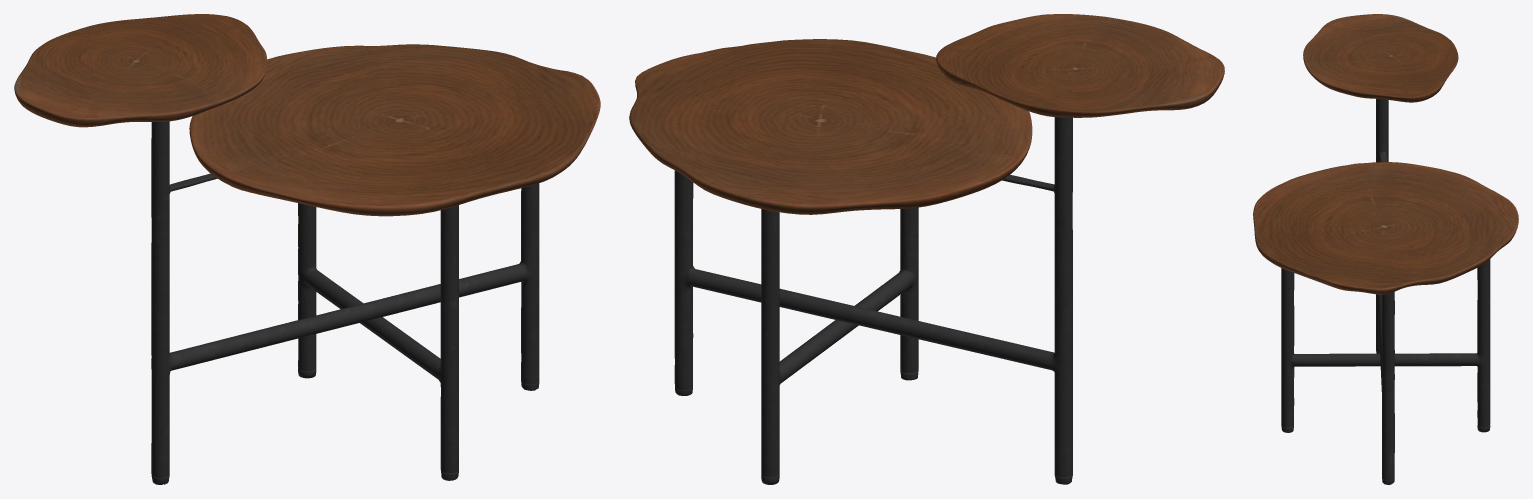
Rendered from abo-B07B7L147Y.glb.
3 views of the same model, side by side, from view 1: azimuth 30°, elevation 25°; view 2: azimuth 150°, elevation 25°; view 3: azimuth 270°, elevation 25° (orthographic). The views are drawn at different scales.
Size of the model in its own units: 0.759 by 0.538 by 0.442.
Materials: 1 (1 with a texture image).
